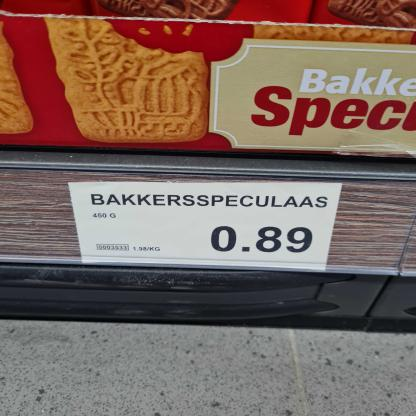prtg: (69, 183, 344, 272)
